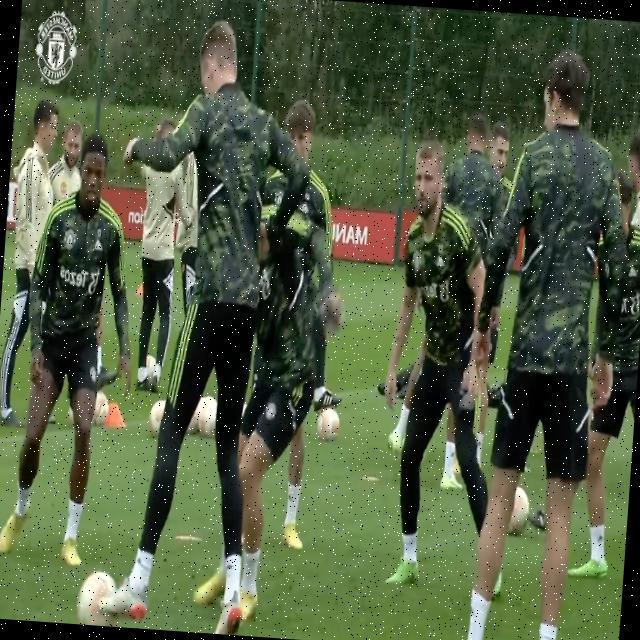Adidas: (627, 261, 639, 279), (91, 237, 103, 253), (299, 199, 310, 215), (434, 254, 445, 269)
